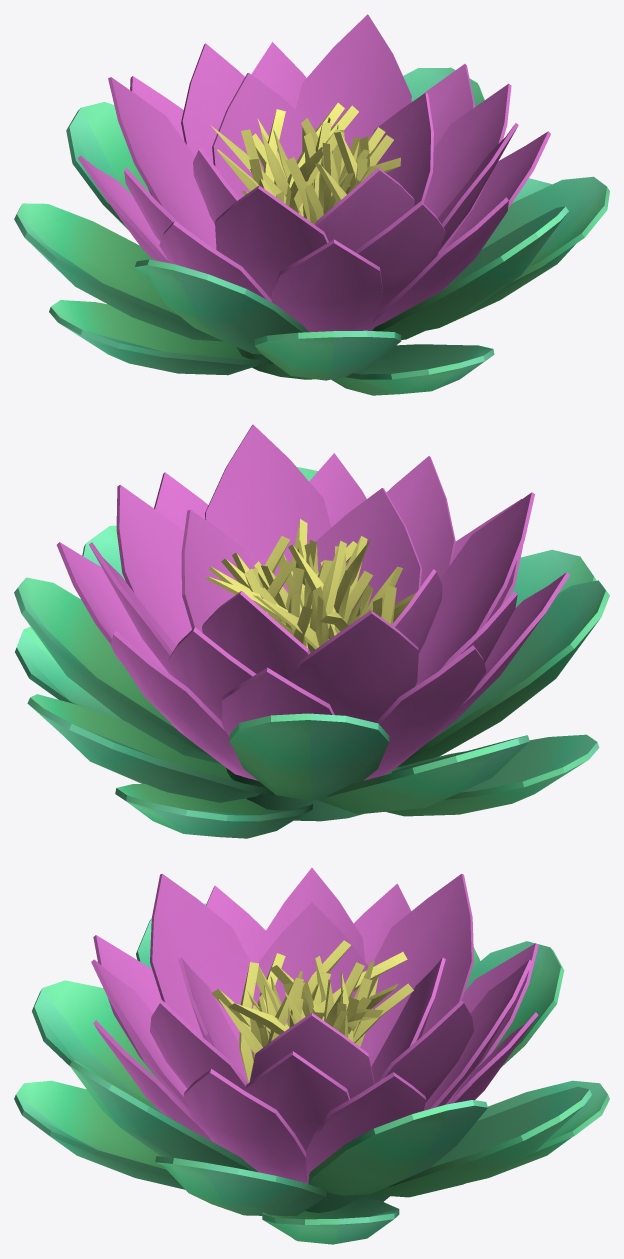
File: SM_Sw_SpecialTile_Fence.fbx
3 renders of one model, top to bottom at view 1: azimuth 30°, elevation 25°; view 2: azimuth 150°, elevation 25°; view 3: azimuth 270°, elevation 25°, orthographic. The views are drawn at different scales.
Visible parts, largest first — view 1: SM_Sw_SpecialTile_Fence; view 2: SM_Sw_SpecialTile_Fence; view 3: SM_Sw_SpecialTile_Fence.
Boxes of the visible parts, x1,y1,x2,y2 form: SM_Sw_SpecialTile_Fence: (14,14,609,395); SM_Sw_SpecialTile_Fence: (14,424,609,838); SM_Sw_SpecialTile_Fence: (14,868,609,1244).
Bounding box in the file's own units: 122 × 56.16 × 122.
